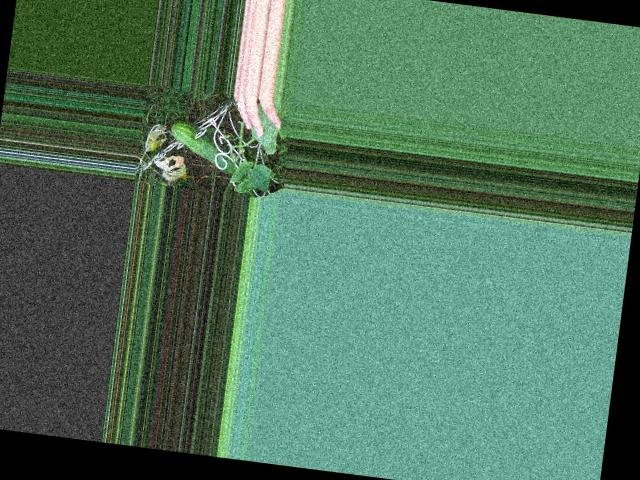cucumber: (166, 119, 242, 175)
